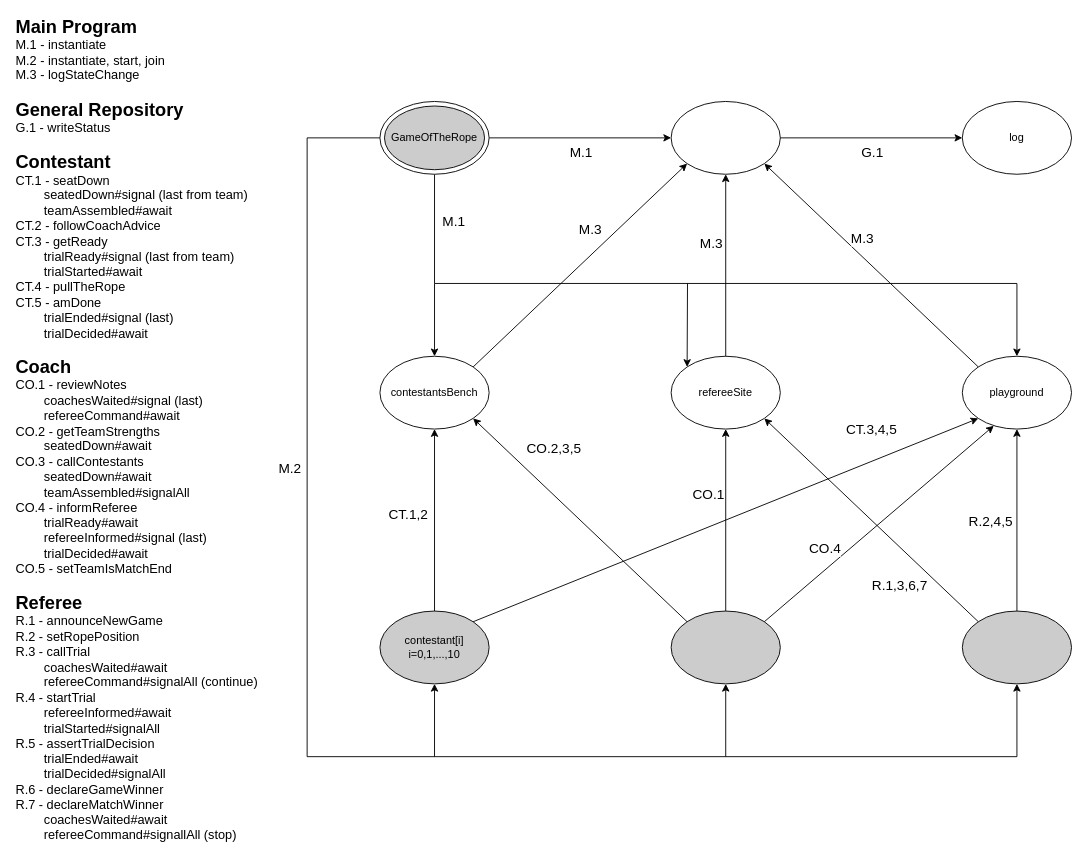
This 1087x858 diagram has some shape labels left out. The shapes that lost their labels are listed below. From the top down, each one's centre as x and y in pixels, then its label:
At (x=725, y=137): "generalRepository".
At (x=725, y=647): "coach[i] i=0,1".
At (x=1016, y=647): "referee".
